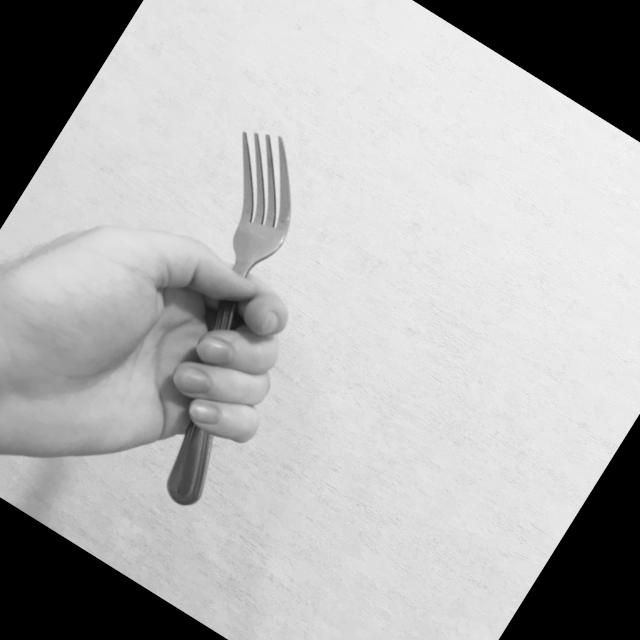fork: (55, 117, 387, 514)
